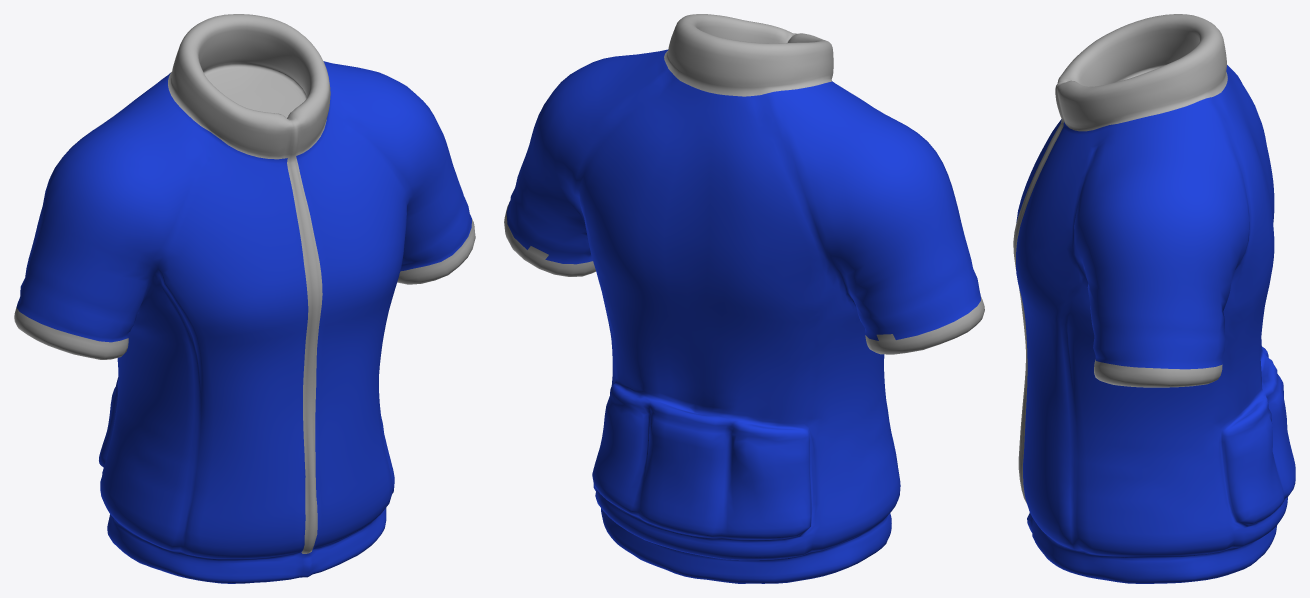
The model's file is cycling_jersey.glb.
3 views of the same model, side by side, from view 1: azimuth 30°, elevation 25°; view 2: azimuth 150°, elevation 25°; view 3: azimuth 270°, elevation 25° (orthographic). The views are drawn at different scales.
Visible parts, largest first — view 1: Retopo_tripo_node_b0fc44ab-d648-410a-b8e3-ceb09c70ad95; view 2: Retopo_tripo_node_b0fc44ab-d648-410a-b8e3-ceb09c70ad95; view 3: Retopo_tripo_node_b0fc44ab-d648-410a-b8e3-ceb09c70ad95.
Part boxes in pixels (<box>): Retopo_tripo_node_b0fc44ab-d648-410a-b8e3-ceb09c70ad95: <box>14,14,475,583</box>; Retopo_tripo_node_b0fc44ab-d648-410a-b8e3-ceb09c70ad95: <box>504,14,984,583</box>; Retopo_tripo_node_b0fc44ab-d648-410a-b8e3-ceb09c70ad95: <box>1013,14,1295,583</box>.
Size of the model in its own units: 2.45 by 2.6 by 1.33.
